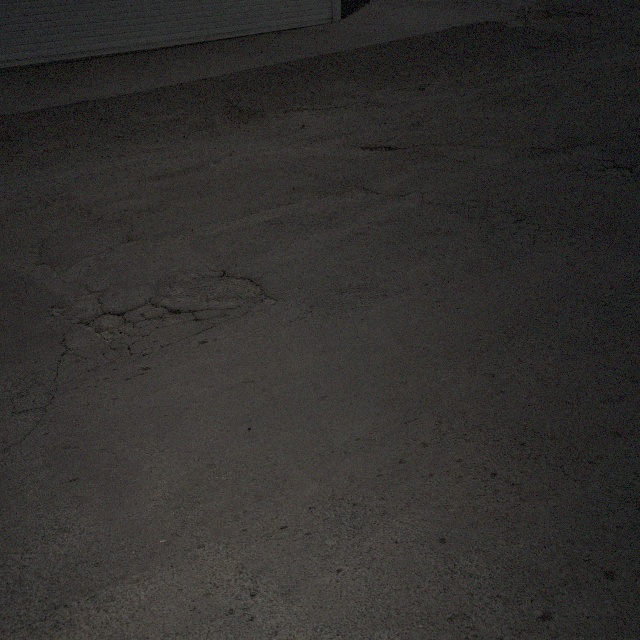pothole: (602, 162, 635, 184), (359, 139, 396, 157)
